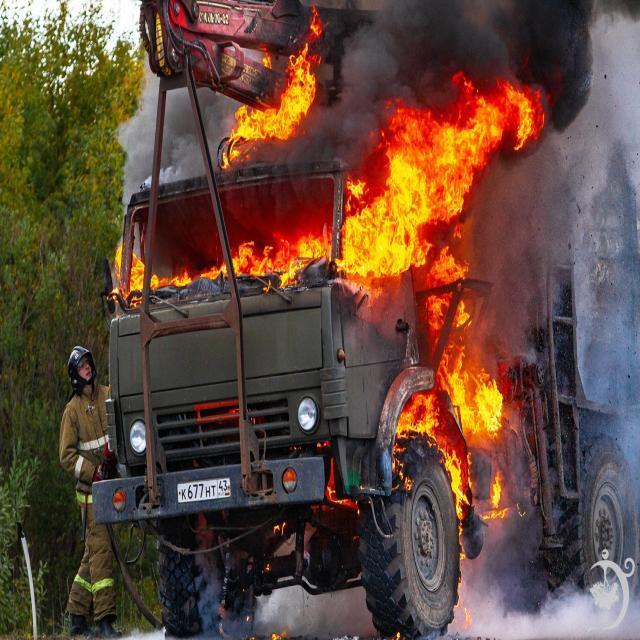Fire: (343, 76, 543, 283), (220, 6, 324, 170), (419, 245, 502, 436), (113, 231, 330, 299), (388, 393, 466, 522), (486, 468, 508, 520)
Smoke: (256, 0, 640, 634), (114, 49, 240, 192)
